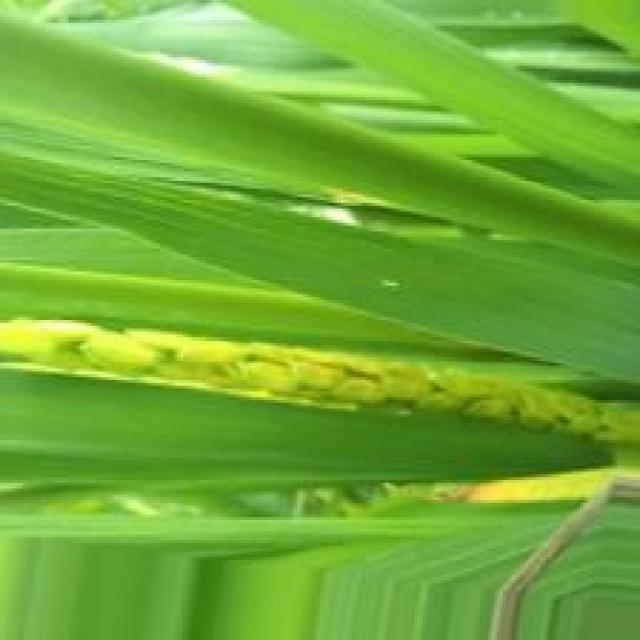HealthyLeaf: (0, 2, 640, 266), (0, 134, 640, 386)
